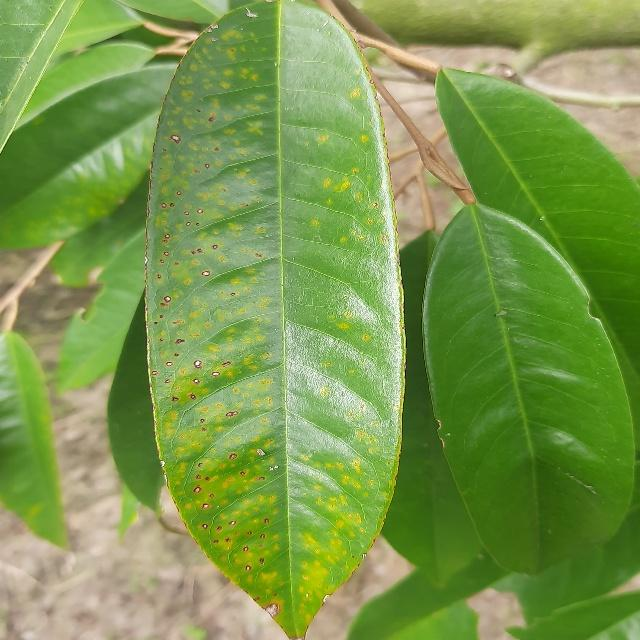Leaf Spot: (131, 0, 425, 640)
